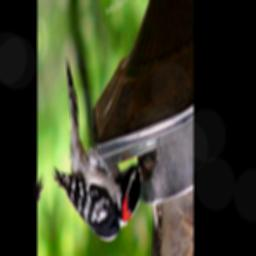Woodpecker: (43, 13, 150, 256)
